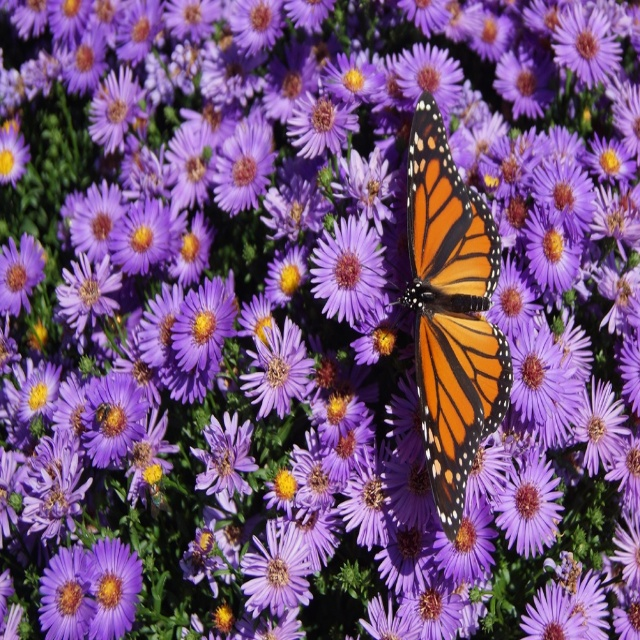Butterfly: (381, 87, 513, 527)
